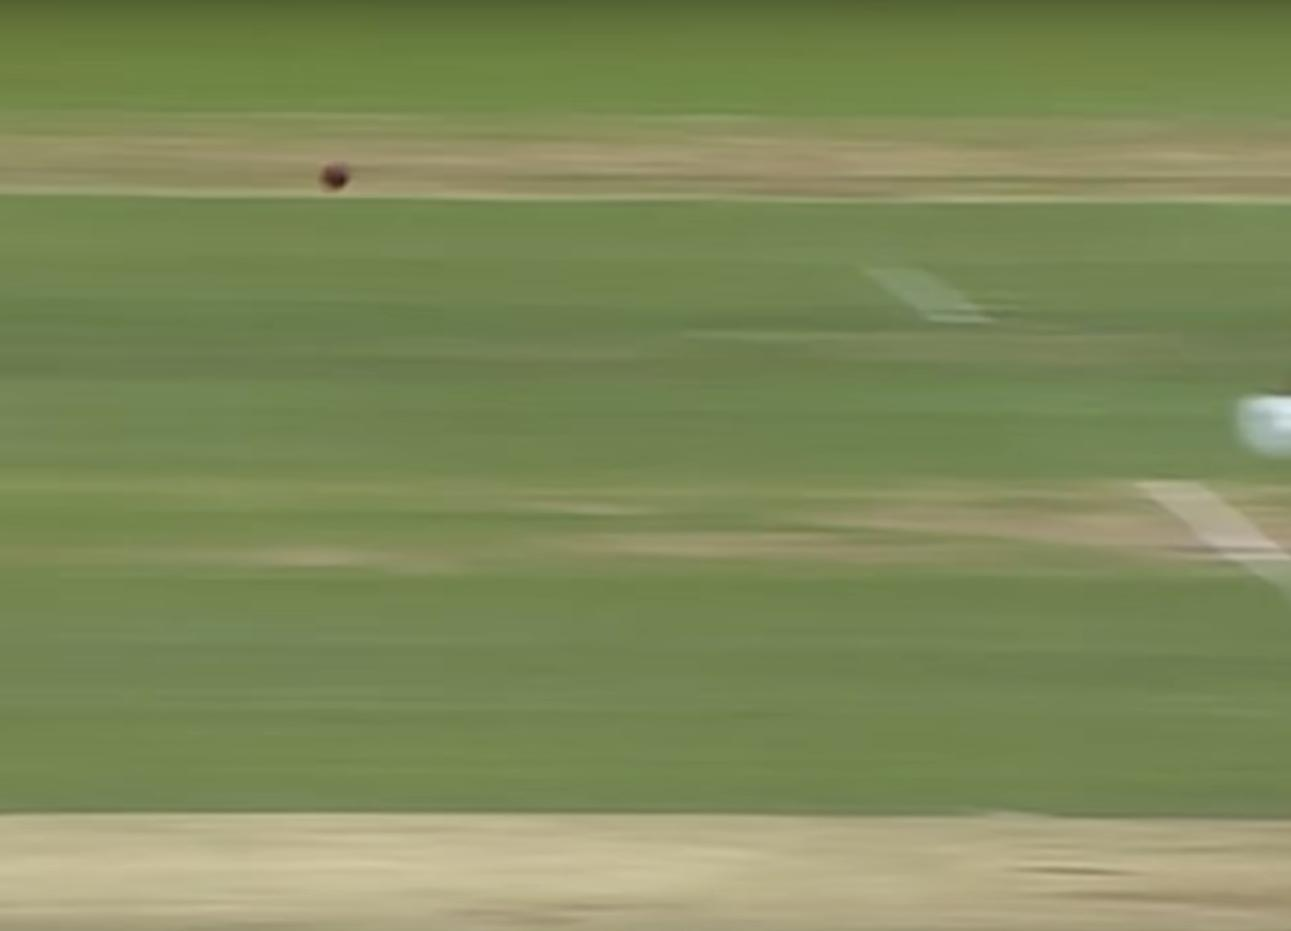Cricket-Ball: (305, 156, 370, 200)
